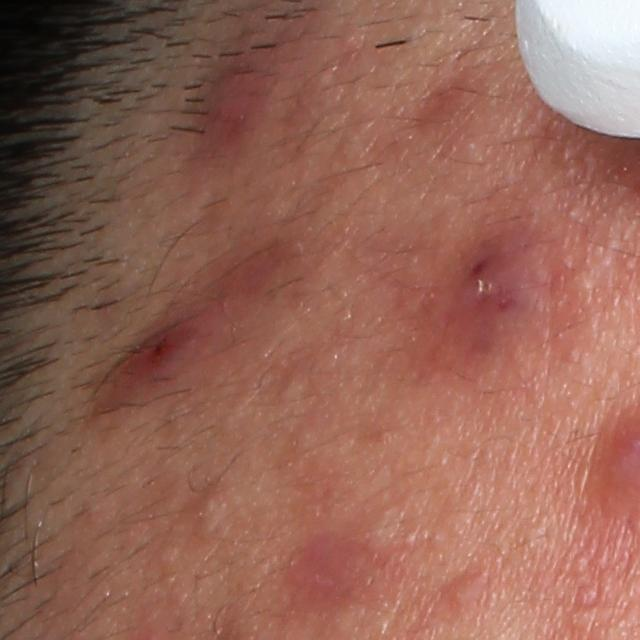papule: (448, 232, 559, 364), (114, 319, 212, 390), (201, 62, 280, 146), (447, 565, 480, 617)
